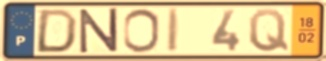4: (209, 8, 243, 54)
D: (33, 7, 80, 54)
I: (166, 7, 183, 54)
N: (77, 6, 120, 55)
O: (121, 7, 161, 55)
Q: (247, 7, 291, 54)
